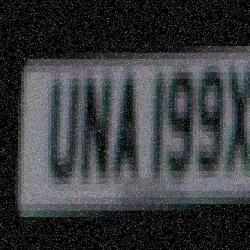LicensePlate: (9, 24, 250, 228)
